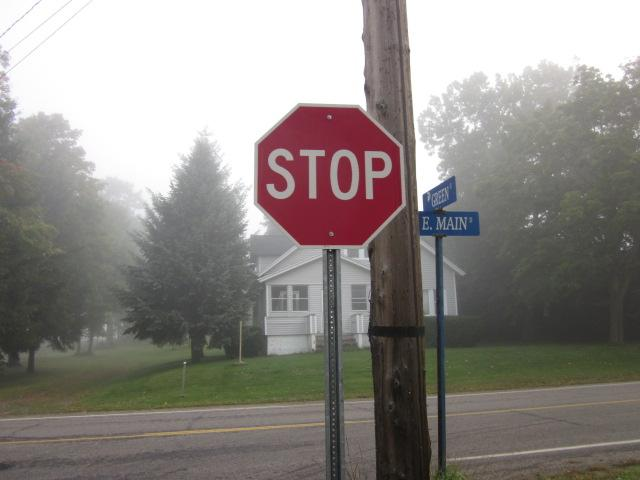stop: (252, 96, 410, 251)
